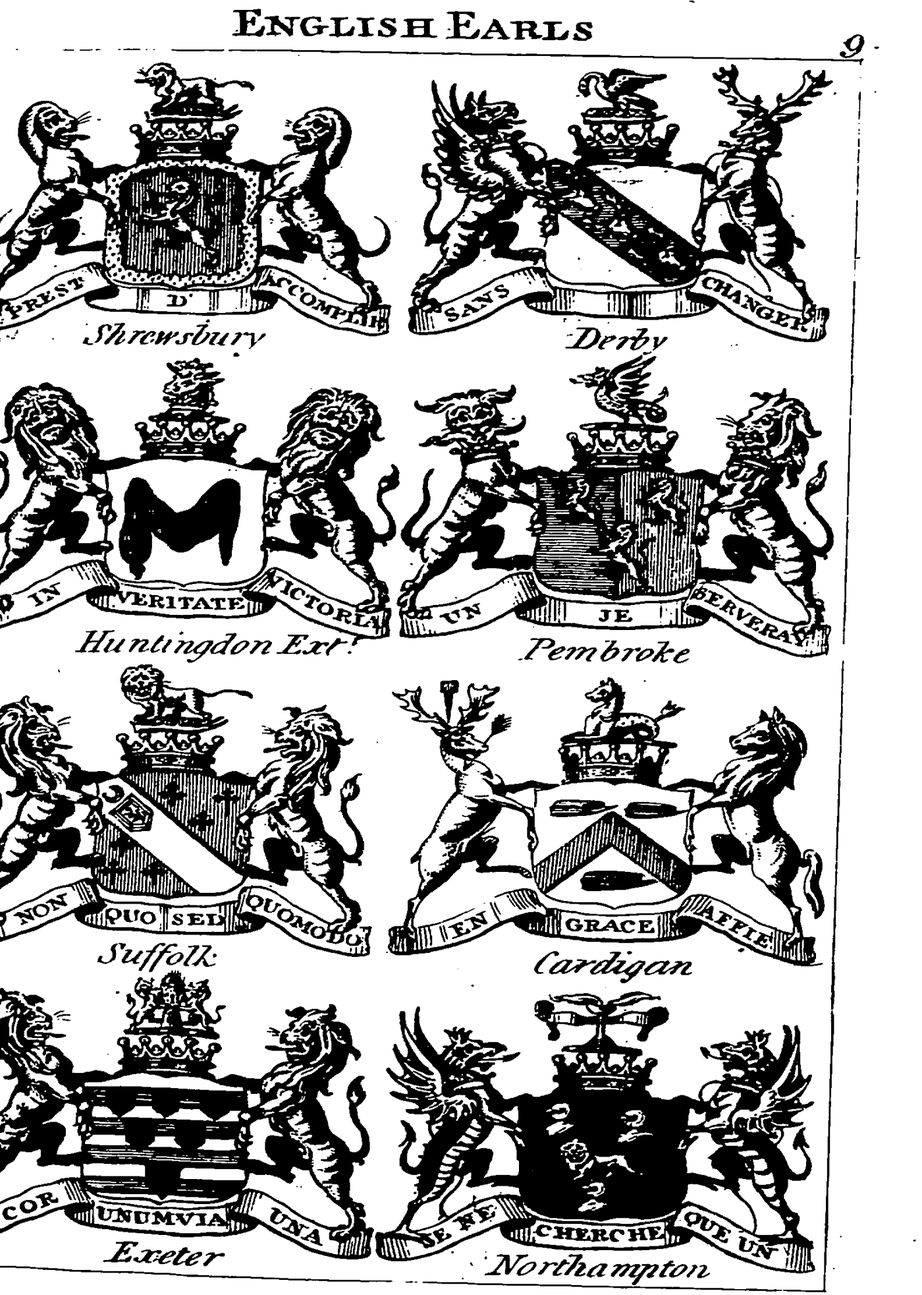coat_of_arms: (383, 964, 816, 1287), (402, 54, 849, 361), (391, 668, 825, 983), (404, 361, 832, 670), (1, 39, 392, 362), (3, 363, 396, 672), (3, 679, 386, 974), (7, 973, 371, 1273)
